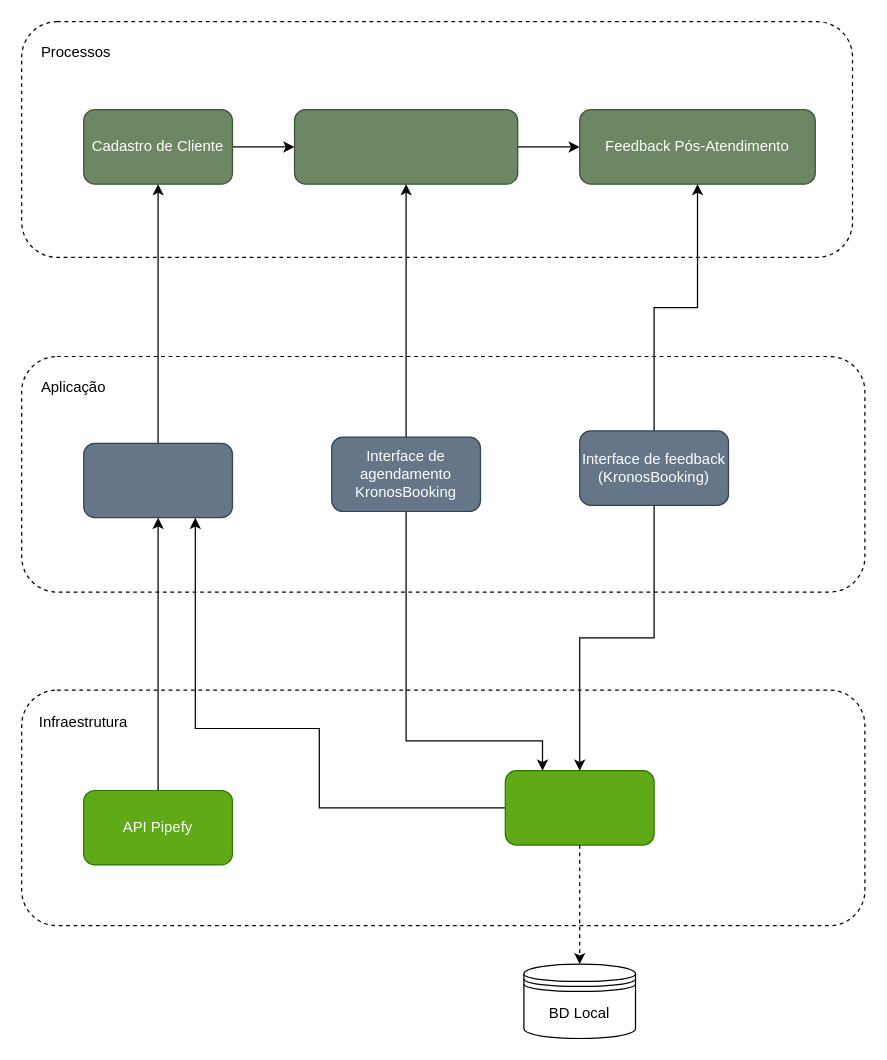
Image size: 887x1060. Some labels were removed from this diagram. The centre of each missing label's shape, as x and y in pixels:
"Agendamento de Atendimento" belongs at (x=405, y=146).
"Interface de cadastro (site institucional)" belongs at (x=157, y=480).
"On Premise" belongs at (x=579, y=807).
